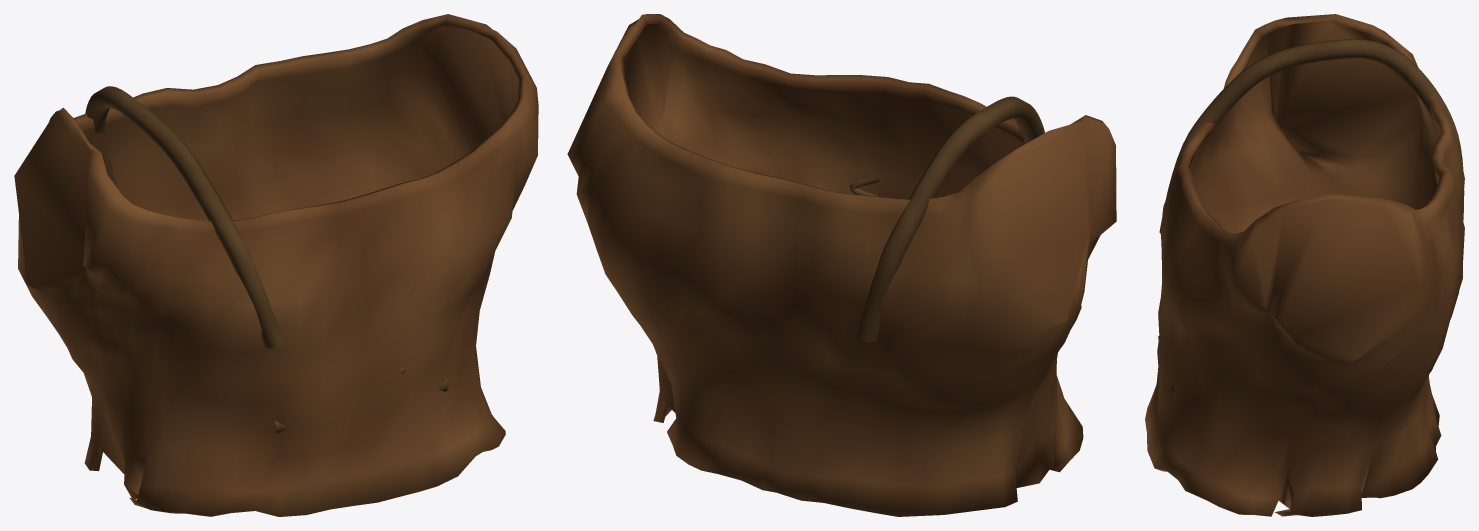
Rendered from hide_wrap.glb.
The picture shows the model from 3 angles, left to right: view 1: azimuth 30°, elevation 25°; view 2: azimuth 150°, elevation 25°; view 3: azimuth 270°, elevation 25°; orthographic projection. The views are drawn at different scales.
Visible parts, largest first — view 1: hide_wrap; view 2: hide_wrap; view 3: hide_wrap.
Part boxes in pixels (box(x1,y1,x2,y2)): hide_wrap: box(14, 14, 538, 516); hide_wrap: box(567, 14, 1116, 516); hide_wrap: box(1145, 14, 1464, 516).
Size of the model in its own units: 0.2403 by 0.1845 by 0.1564.
